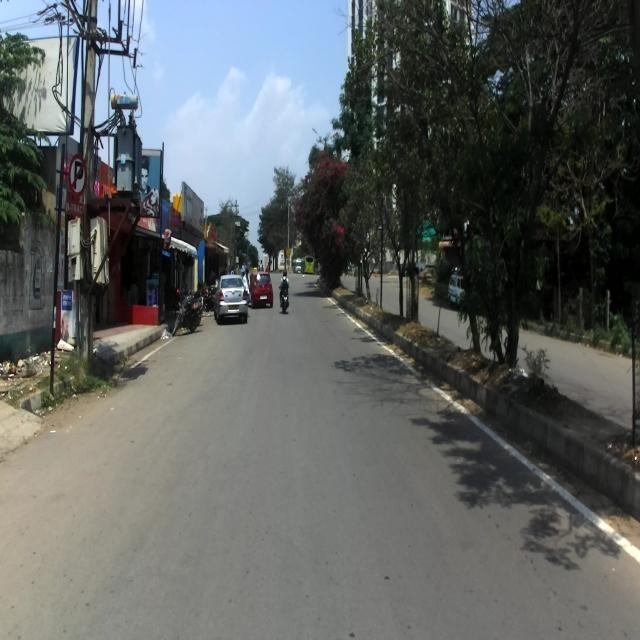bus: (300, 255, 315, 273)
car: (213, 274, 248, 326), (248, 270, 273, 308), (448, 273, 467, 310)
